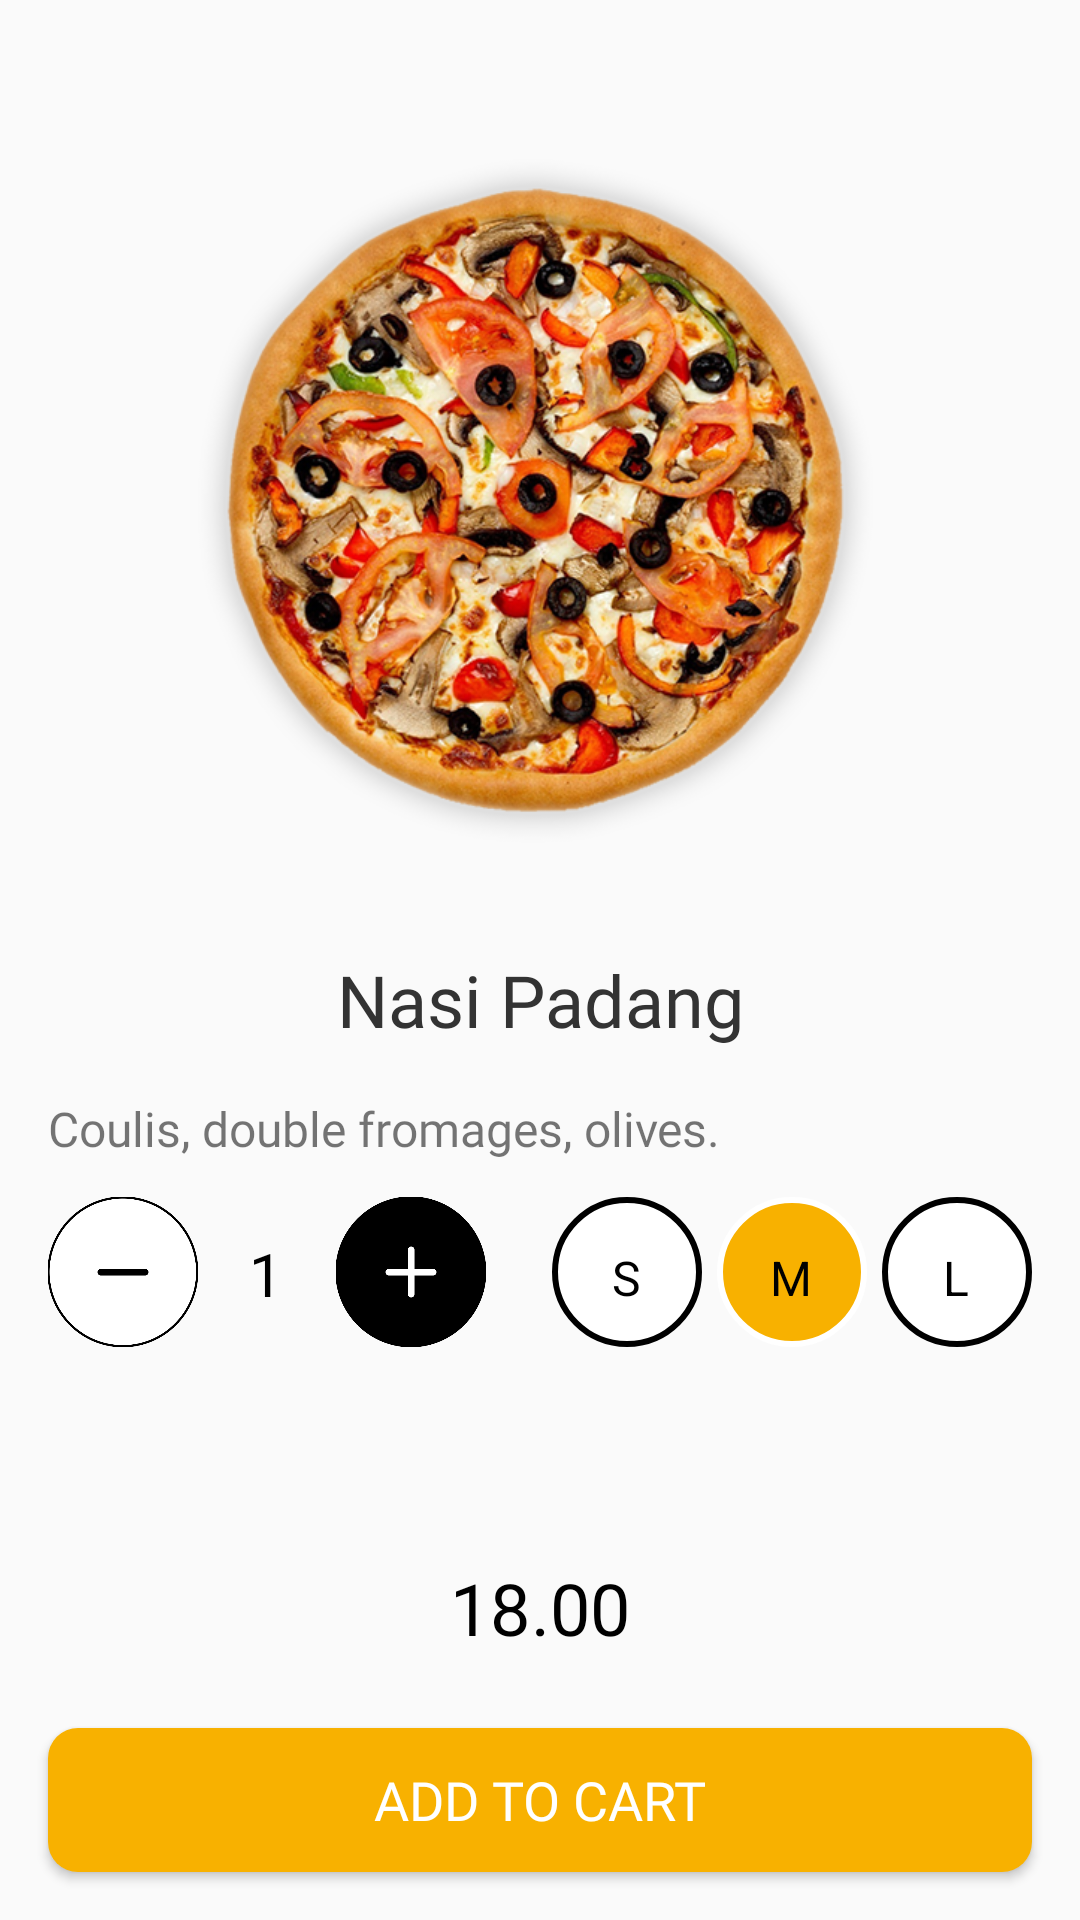

Named icons in this screenshot (1080 x 1920) and their bounding boxes, (x1, y1, x2, y2):
minus: (48, 1197, 198, 1347)
plus: (336, 1197, 486, 1347)
